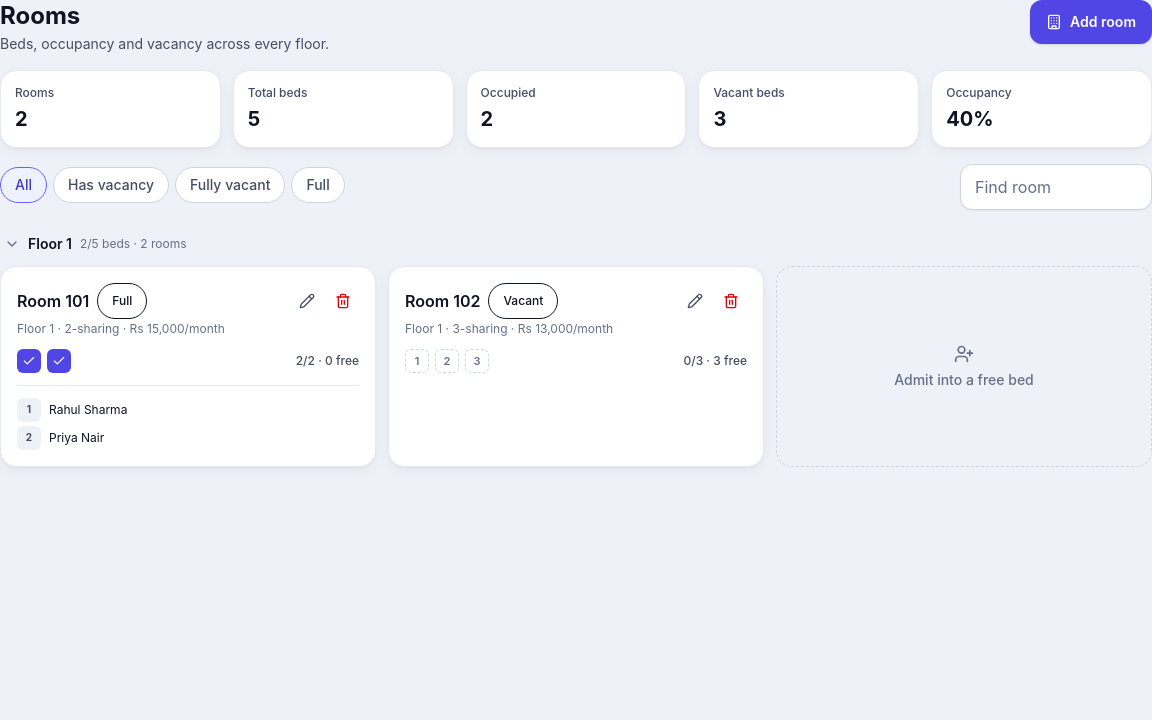
Test: Rooms › adds a room and blocks deleting an occupied one
Click the button "Add room".
click(1091, 22)  # box left=1030, top=0, right=1151, bottom=44
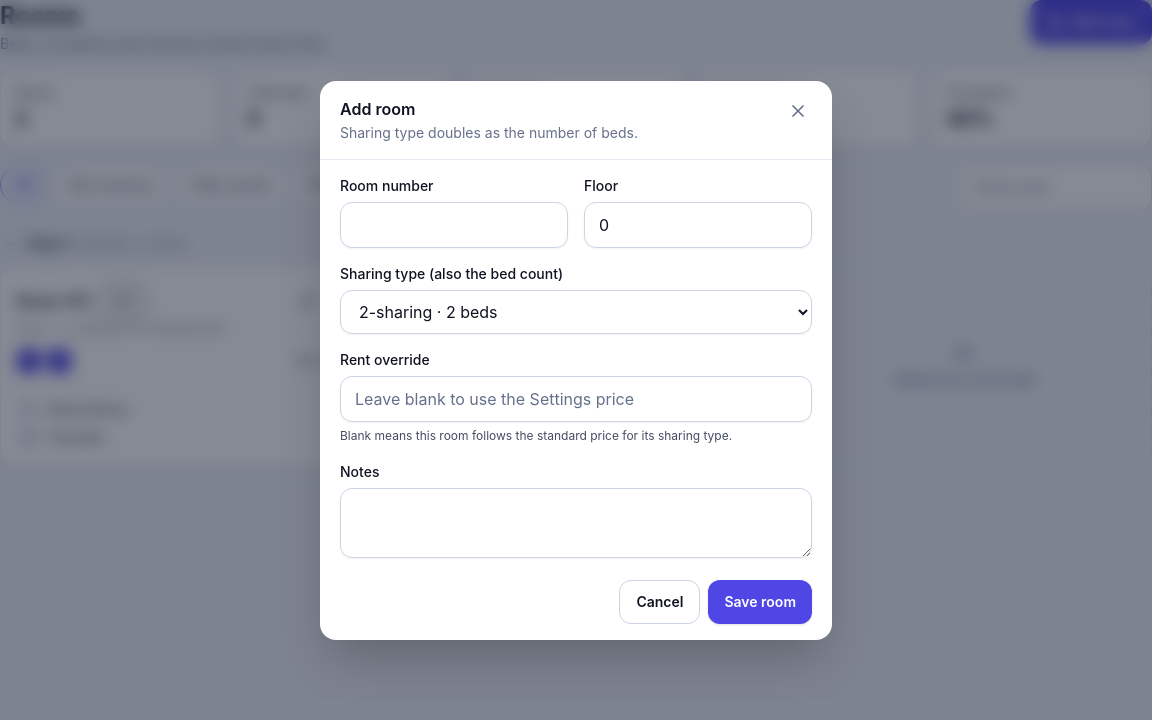
Type "201" into the field labelled "Room number".
click(454, 224); type("201")  # box left=340, top=202, right=568, bottom=248
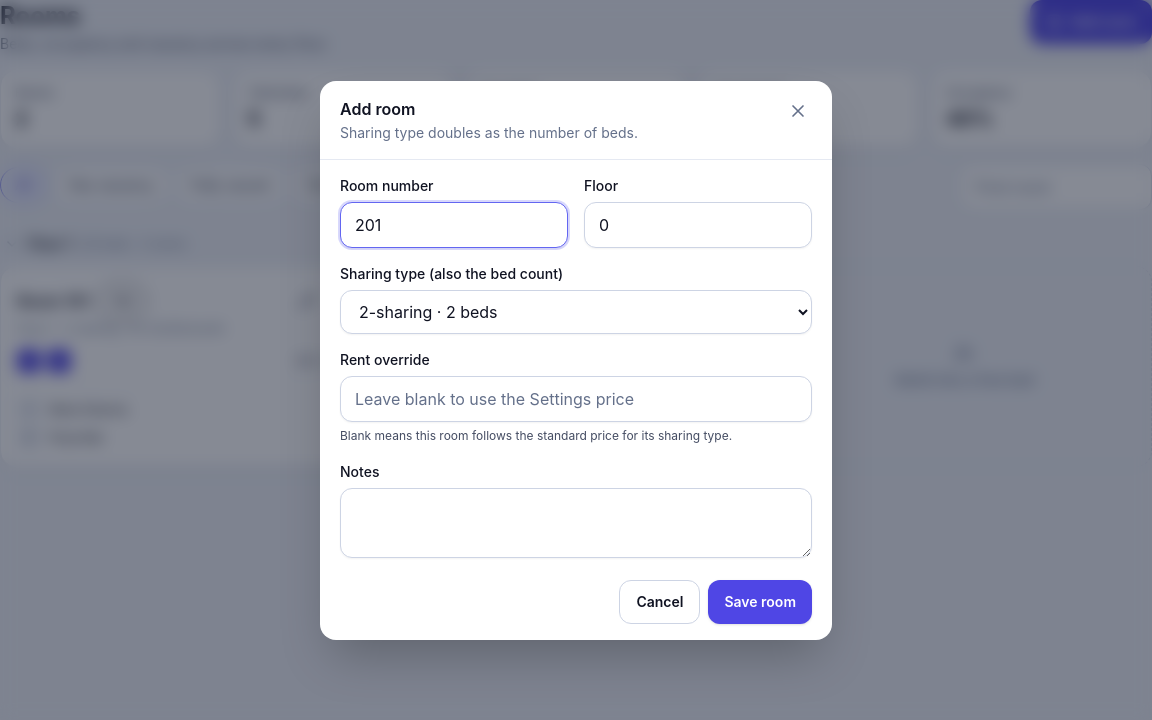
Click the button "Save room".
click(760, 602)  # box left=708, top=580, right=812, bottom=624
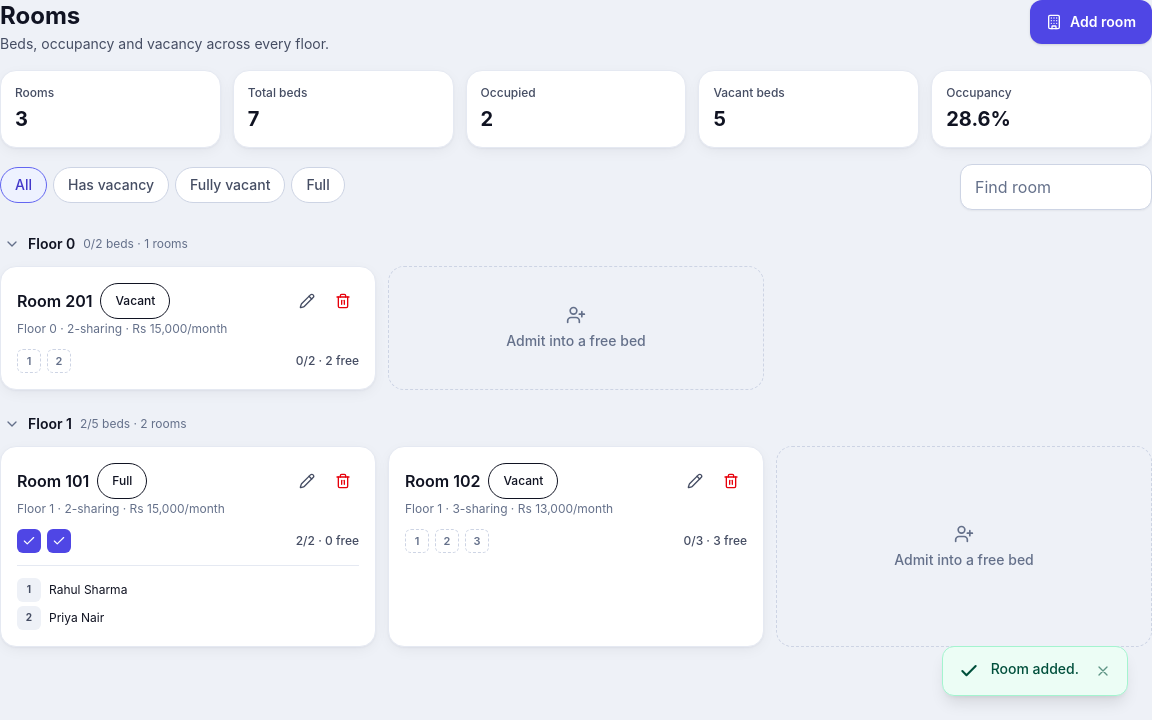
Check: the text "Room added." is shown, box left=991, top=659, right=1079, bottom=678
Check: the heading "Room 201" is shown, box left=17, top=289, right=92, bottom=313
Note: Room 101 holds two tenants: the delete confirm fails with the reason.
Click the button named "Delete room 101".
click(343, 481)  # box left=327, top=463, right=359, bottom=499
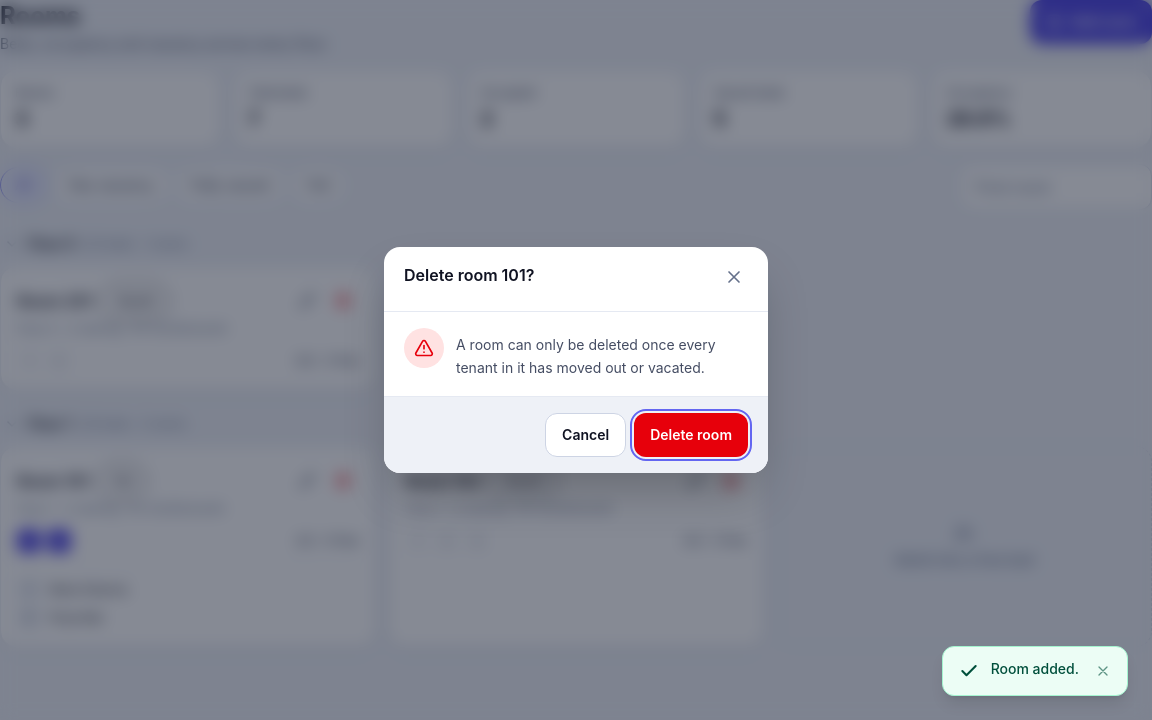
Click the button "Delete room".
click(691, 435)  # box left=634, top=413, right=748, bottom=457
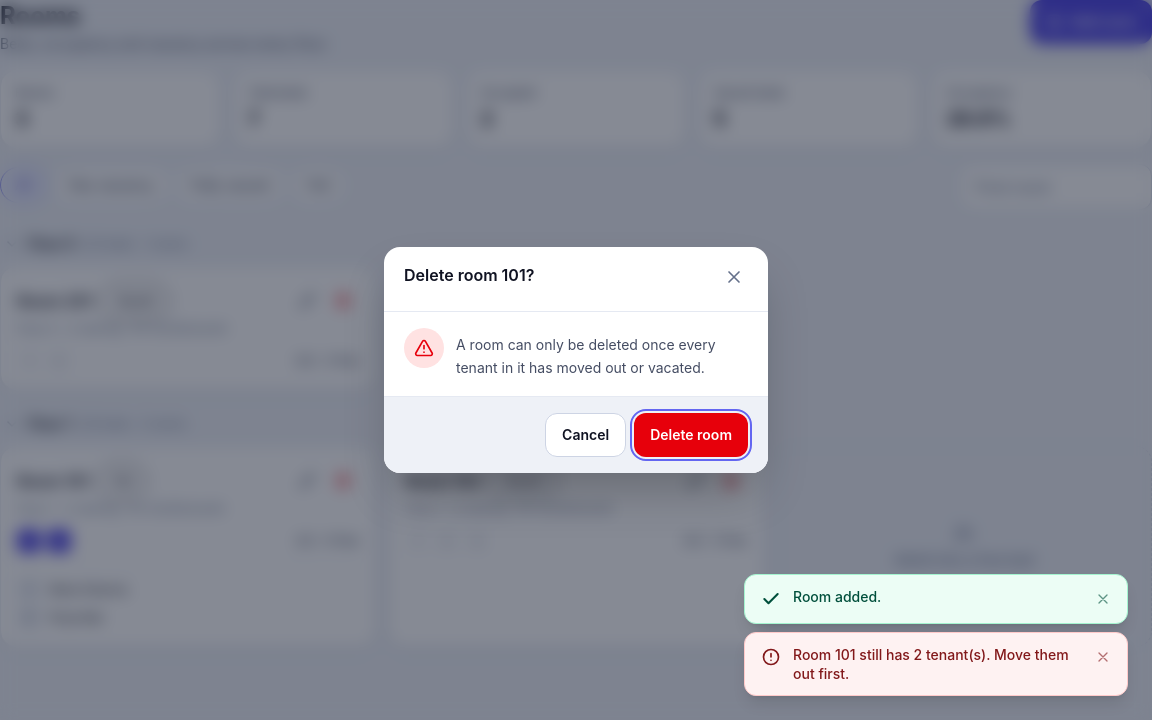
Check: the text "Room 101 still has 2 tenant(s). Move them out first." is shown, box left=793, top=644, right=1079, bottom=683
